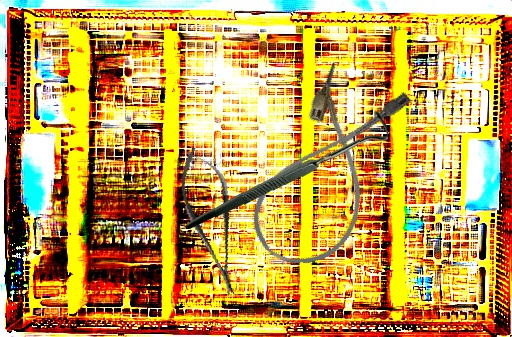Cannula: (237, 55, 419, 284)
Hook Surgical: (185, 105, 390, 236)
Micro Scissor: (171, 142, 252, 301)
